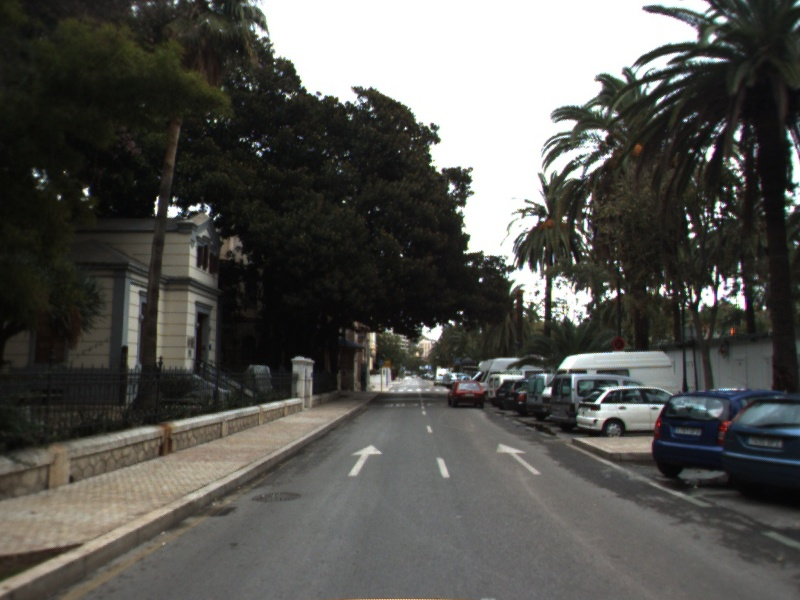STRAIGHT: (494, 441, 543, 476), (346, 443, 384, 478)
